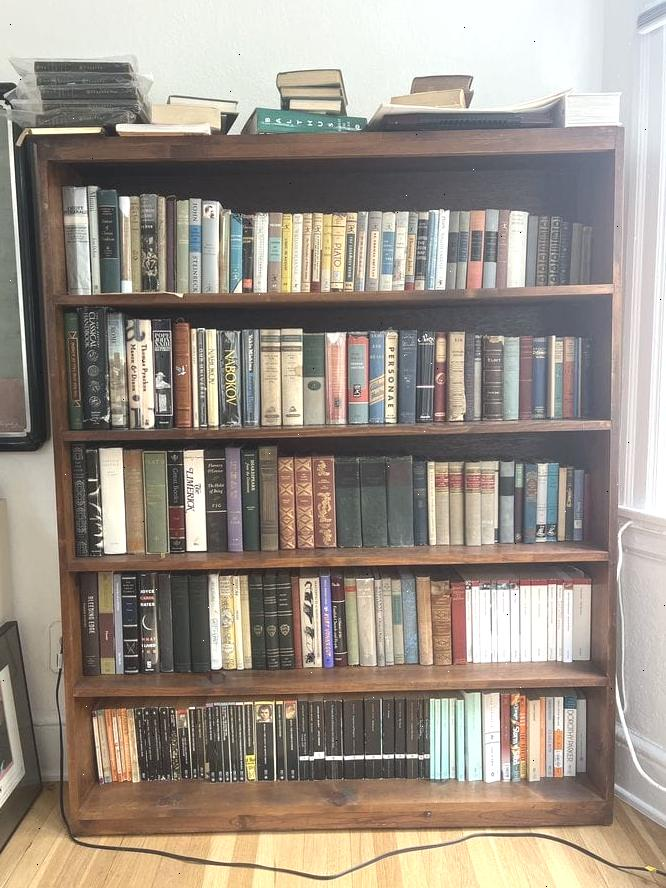book: (78, 306, 108, 427), (62, 186, 91, 295), (99, 447, 126, 555), (142, 450, 167, 557), (106, 313, 128, 430), (96, 189, 120, 293), (125, 318, 147, 431), (360, 456, 387, 548), (386, 455, 413, 547), (183, 448, 206, 552), (151, 322, 173, 430), (204, 447, 226, 553), (123, 450, 145, 556), (313, 454, 337, 549), (335, 457, 360, 548), (302, 333, 326, 426), (297, 574, 321, 667), (70, 443, 89, 558), (63, 313, 82, 428), (84, 444, 103, 558), (137, 572, 158, 675), (187, 574, 209, 672), (170, 574, 192, 672), (240, 446, 260, 553), (79, 575, 100, 676), (258, 446, 278, 552), (281, 332, 303, 427), (173, 320, 192, 429), (354, 573, 376, 667), (293, 452, 314, 550), (166, 449, 185, 555), (220, 329, 240, 429), (224, 446, 243, 550), (120, 574, 139, 676), (260, 331, 280, 426), (347, 333, 368, 423), (155, 573, 174, 672), (326, 333, 346, 425), (414, 572, 434, 664), (262, 575, 281, 671), (415, 331, 435, 422), (97, 573, 115, 674), (399, 329, 418, 424), (276, 576, 295, 671), (140, 195, 158, 294), (571, 573, 591, 662), (277, 454, 295, 551), (400, 572, 419, 663), (481, 690, 500, 781), (201, 200, 219, 294), (506, 209, 527, 288), (448, 332, 466, 424), (248, 574, 265, 670), (218, 575, 235, 670), (241, 328, 257, 428), (368, 331, 385, 424), (330, 574, 347, 667), (342, 575, 359, 668), (450, 575, 467, 665), (318, 572, 334, 666), (464, 459, 481, 546), (433, 461, 450, 548), (502, 335, 519, 421), (175, 199, 190, 294), (464, 692, 480, 781), (384, 331, 399, 425), (544, 458, 560, 546), (534, 460, 549, 553), (522, 459, 538, 546), (195, 330, 209, 429), (205, 328, 219, 427), (467, 211, 485, 288), (499, 458, 515, 544), (448, 459, 464, 545), (390, 574, 405, 664), (188, 197, 202, 293), (476, 579, 492, 663), (207, 574, 221, 669), (412, 459, 427, 547), (112, 573, 125, 674), (562, 694, 577, 781), (518, 336, 533, 421), (483, 210, 499, 289), (531, 336, 546, 420), (531, 579, 546, 663), (129, 196, 142, 291), (118, 197, 131, 292), (433, 334, 447, 422), (330, 214, 346, 291), (495, 210, 511, 287), (435, 208, 450, 289), (366, 213, 381, 292), (424, 211, 439, 290), (253, 212, 268, 291), (343, 214, 358, 292), (550, 337, 564, 420), (496, 579, 510, 662), (267, 214, 282, 291), (414, 213, 429, 290), (165, 199, 177, 294), (547, 216, 563, 287), (229, 213, 243, 293), (394, 212, 408, 291), (557, 465, 570, 548), (580, 338, 593, 421), (310, 214, 324, 291), (456, 212, 470, 289), (428, 698, 441, 780), (535, 215, 550, 286), (562, 337, 575, 418), (446, 214, 460, 289), (463, 335, 475, 422), (425, 459, 437, 544), (557, 217, 572, 284), (320, 214, 333, 291), (241, 215, 254, 292), (300, 215, 313, 292), (572, 467, 585, 544), (356, 213, 369, 290), (219, 212, 231, 294), (525, 216, 539, 286), (157, 198, 167, 292), (281, 214, 293, 292), (291, 215, 303, 291), (568, 223, 582, 284), (472, 334, 482, 419)
